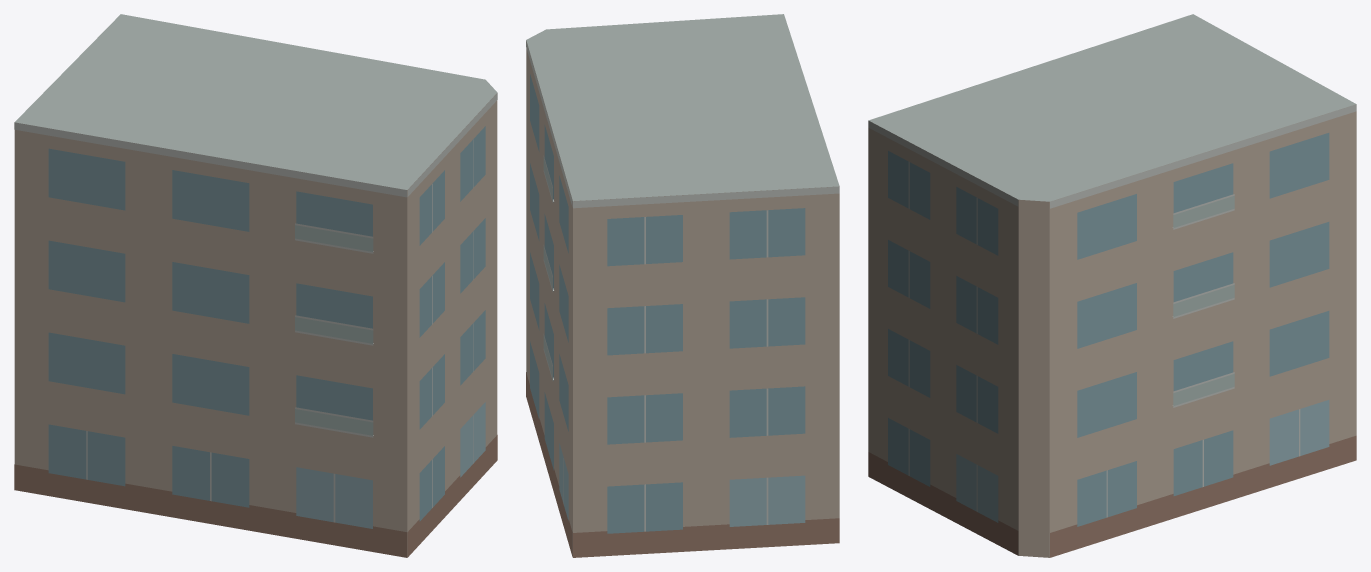
File: survey-upis-32732747.glb
3 views of the same model, side by side, from view 1: azimuth 30°, elevation 25°; view 2: azimuth 150°, elevation 25°; view 3: azimuth 270°, elevation 25° (orthographic). The views are drawn at different scales.
Visible parts, largest first — view 1: survey-upis-32732747.tmp; view 2: survey-upis-32732747.tmp; view 3: survey-upis-32732747.tmp.
Boxes of the visible parts, <box> form: survey-upis-32732747.tmp: <box>14,14,497,557</box>; survey-upis-32732747.tmp: <box>526,14,839,557</box>; survey-upis-32732747.tmp: <box>868,14,1356,557</box>.
Bounding box in the file's own units: 13.8 × 12.2 × 15.17.
